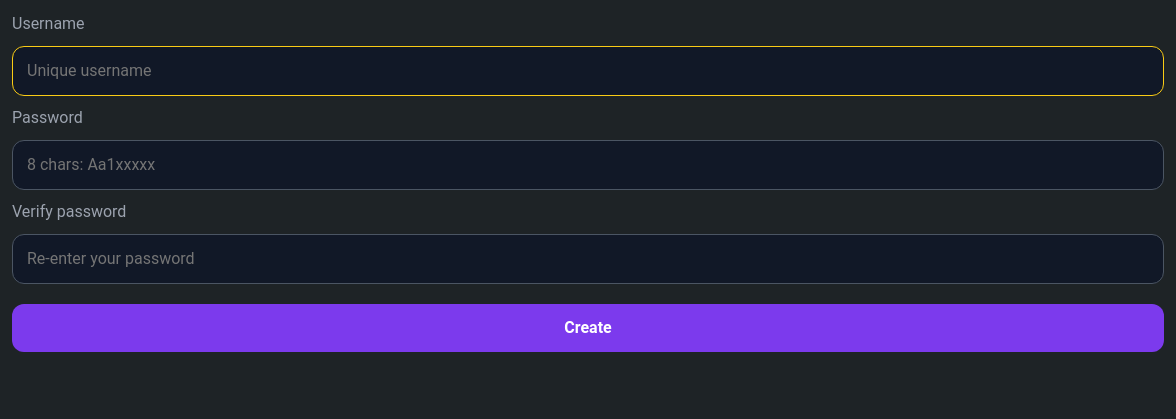
CreateProfileForm › requires verify password before submitting in full mode
Type "AcePilot" into the field labelled "Username" at (588, 71), box top-left (12, 46), bottom-right (1164, 96)
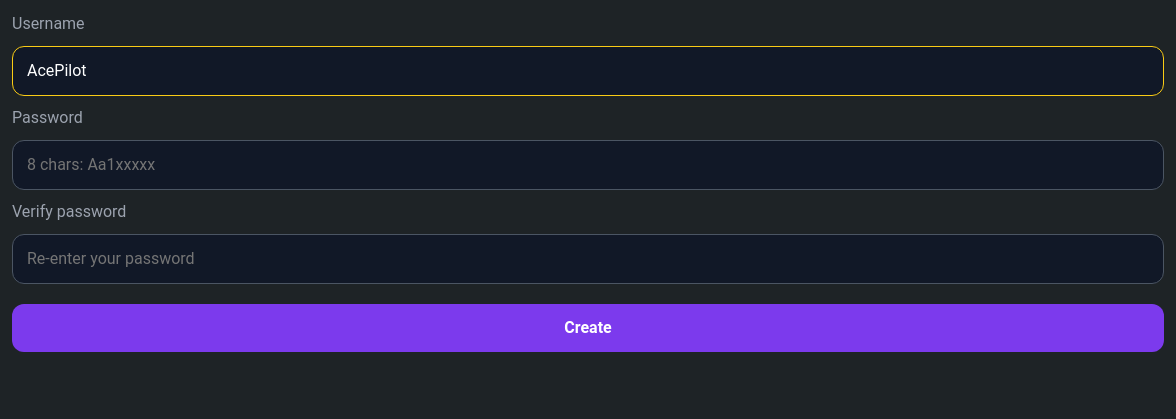
Type "Abc12345" into the password field labelled "Password" at (588, 165), box top-left (12, 140), bottom-right (1164, 190)
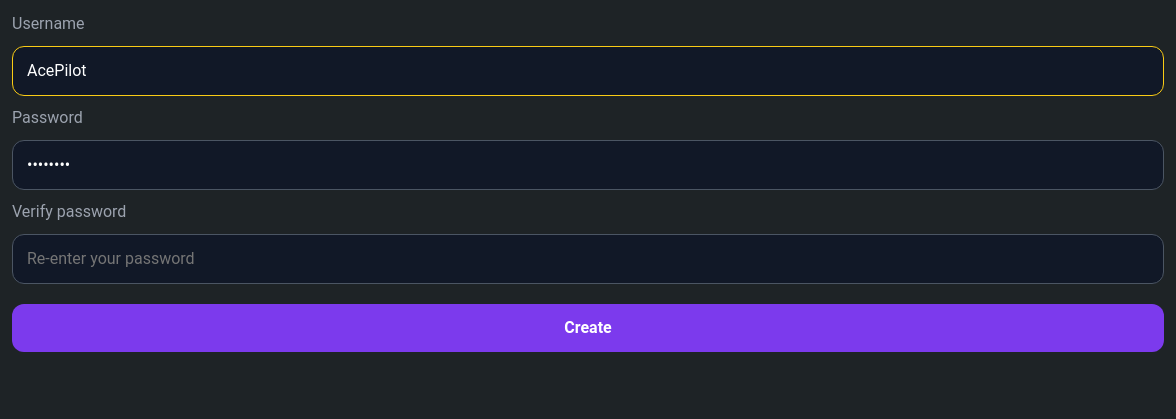
Click the button "Create" at (588, 328), box top-left (12, 304), bottom-right (1164, 352)
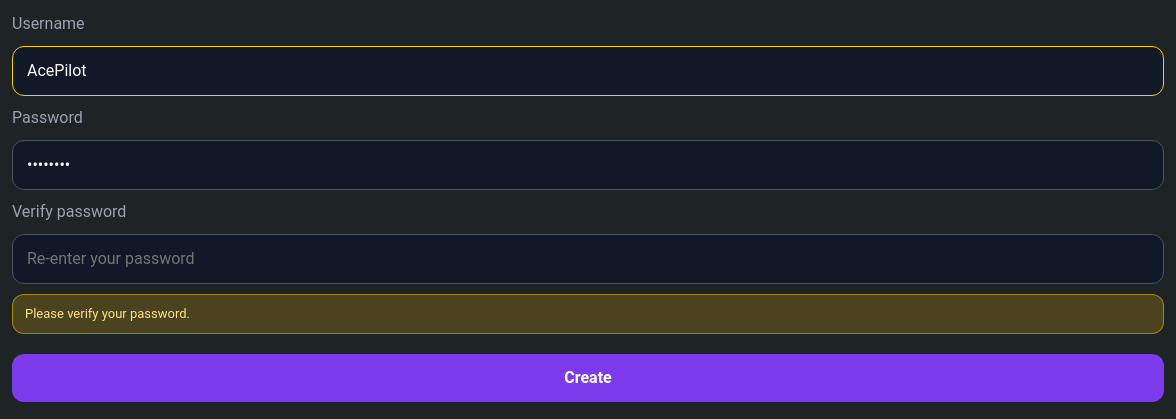
expect the message shows "Please verify your password": met, box top-left (25, 306), bottom-right (190, 321)
